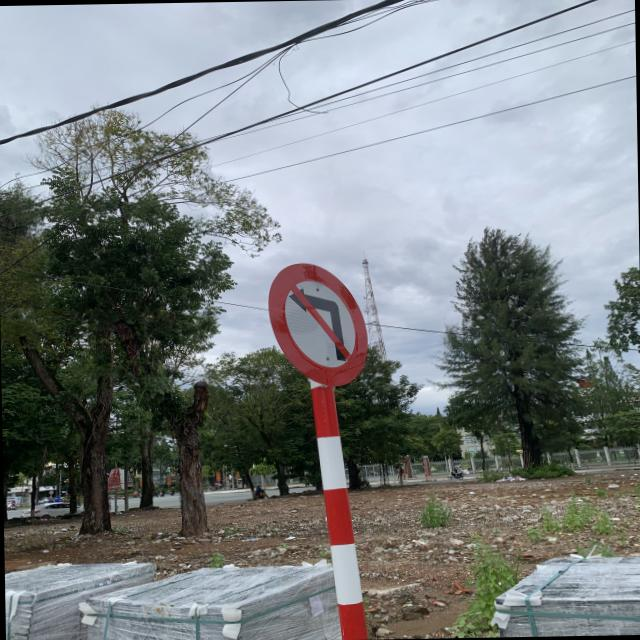Cam_Re_Trai: (267, 262, 368, 386)
